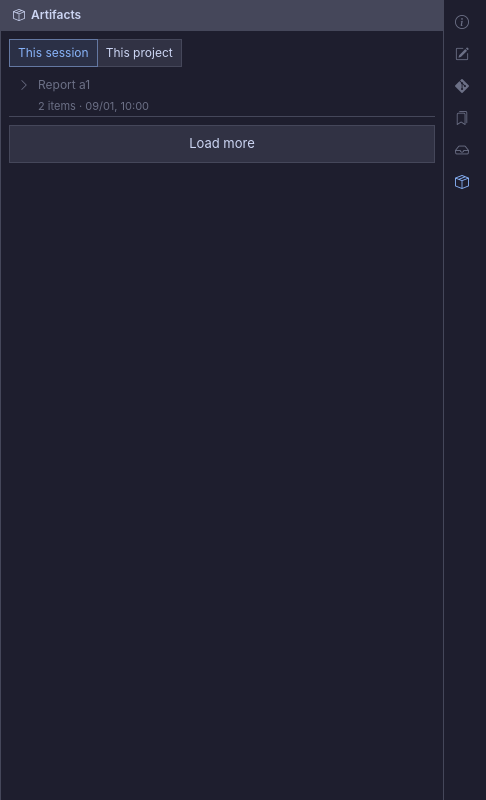
Test: keeps later pages and their expanded previews when a failed resume is retried
Click the button "Load more": (222, 144) [9, 124, 435, 162]
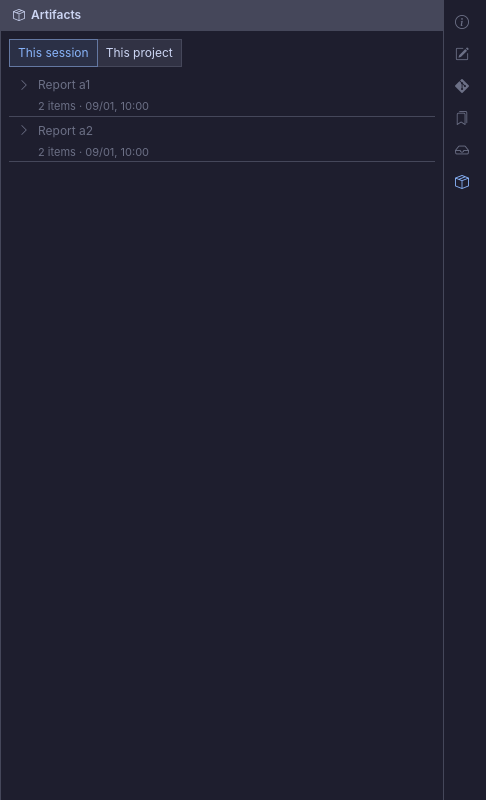
Click the button "Report a2 2 items · 09/01, 10:00": (66, 130) [9, 120, 435, 161]
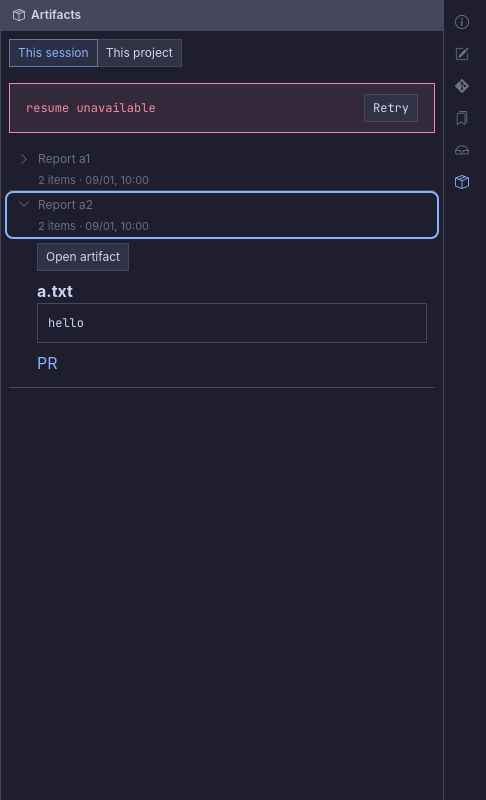
Expected: the text "resume unavailable" is shown, [26, 100, 156, 116]
Click the button "Retry": (391, 108) [364, 94, 418, 122]
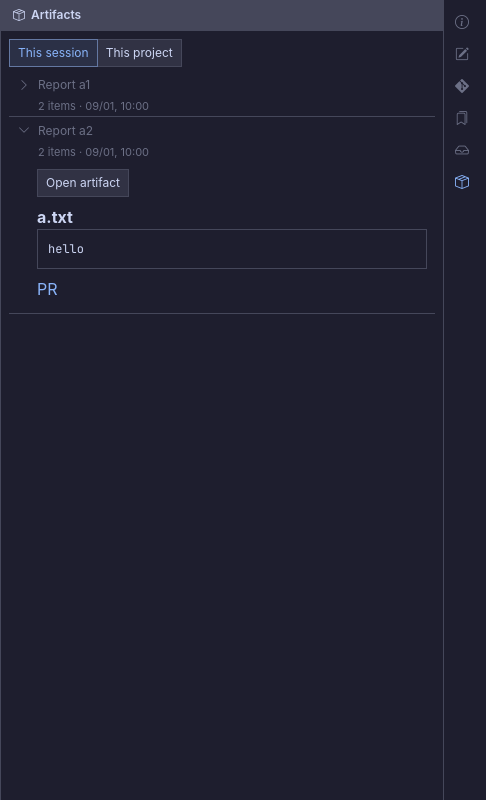
Expected: the text "Report a2" is shown, [38, 122, 93, 138]
Expected: the text "resume unavailable" is gone
